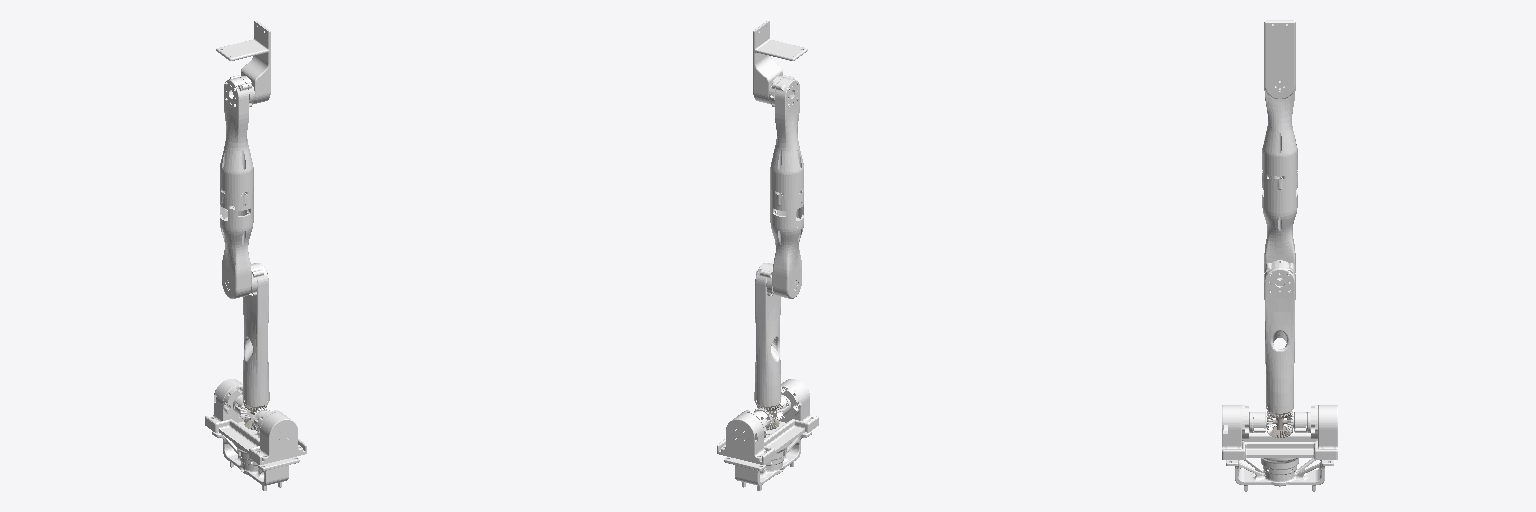
URDF robot description (bparm_5_1):
<?xml version="1.0" encoding="utf-8"?>
<!-- This URDF was automatically created by SolidWorks to URDF Exporter! Originally created by [author] ([email redacted]) 
     Commit Version: 1.6.0-4-g7f85cfe  Build Version: 1.6.7995.38578
     For more information, please see http://wiki.ros.org/sw_urdf_exporter -->
<robot
  name="bparm_5_1">
  <link
    name="base_link">
    <inertial>
      <origin
        xyz="0.000147714993380038 3.86437548627327E-11 0.0344335444558568"
        rpy="0 0 0" />
      <mass
        value="0.09275682784384" />
      <inertia
        ixx="0.000171517453339657"
        ixy="6.62437339287057E-10"
        ixz="1.19244230968858E-07"
        iyy="3.61830561224154E-05"
        iyz="1.12679947694376E-13"
        izz="0.000179050068336717" />
    </inertial>
    <visual>
      <origin
        xyz="0 0 0"
        rpy="0 0 0" />
      <geometry>
        <mesh
          filename="package://bparm_5_1_description/meshes/base_link.STL" />
      </geometry>
      <material
        name="">
        <color
          rgba="1 1 1 1" />
      </material>
    </visual>
    <collision>
      <origin
        xyz="0 0 0"
        rpy="0 0 0" />
      <geometry>
        <mesh
          filename="package://bparm_5_1_description/meshes/base_link.STL" />
      </geometry>
    </collision>
  </link>
  <link
    name="link1">
    <inertial>
      <origin
        xyz="-3.59678982431166E-09 0.0224429410549994 2.86723159617641E-05"
        rpy="0 0 0" />
      <mass
        value="0.242703771625424" />
      <inertia
        ixx="0.000119094117238749"
        ixy="1.44019979650354E-10"
        ixz="-2.20407452275585E-07"
        iyy="0.000279261953138059"
        iyz="-1.69484268016459E-07"
        izz="0.000242859744668342" />
    </inertial>
    <visual>
      <origin
        xyz="0 0 0"
        rpy="0 0 0" />
      <geometry>
        <mesh
          filename="package://bparm_5_1_description/meshes/link1.STL" />
      </geometry>
      <material
        name="">
        <color
          rgba="1 1 1 1" />
      </material>
    </visual>
    <collision>
      <origin
        xyz="0 0 0"
        rpy="0 0 0" />
      <geometry>
        <mesh
          filename="package://bparm_5_1_description/meshes/link1.STL" />
      </geometry>
    </collision>
  </link>
  <joint
    name="joint1"
    type="revolute">
    <origin
      xyz="0 0 0.0615"
      rpy="1.5708 0 1.5708" />
    <parent
      link="base_link" />
    <child
      link="link1" />
    <axis
      xyz="0 -1 0" />
    <limit
      lower="-2.3562"
      upper="2.3562"
      effort="1.0"
      velocity="1.0" />
  </joint>
  <link
    name="link2">
    <inertial>
      <origin
        xyz="-0.0068246 -7.6624E-10 3.2994E-08"
        rpy="0 0 0" />
      <mass
        value="0.014515" />
      <inertia
        ixx="1.872E-06"
        ixy="-4.0965E-14"
        ixz="-1.1811E-14"
        iyy="1.2911E-06"
        iyz="-3.4624E-13"
        izz="1.2324E-06" />
    </inertial>
    <visual>
      <origin
        xyz="0 0 0"
        rpy="0 0 0" />
      <geometry>
        <mesh
          filename="package://bparm_5_1_description/meshes/link2.STL" />
      </geometry>
      <material
        name="">
        <color
          rgba="0.77647 0.75686 0.73725 1" />
      </material>
    </visual>
    <collision>
      <origin
        xyz="0 0 0"
        rpy="0 0 0" />
      <geometry>
        <mesh
          filename="package://bparm_5_1_description/meshes/link2.STL" />
      </geometry>
    </collision>
  </link>
  <joint
    name="joint2"
    type="revolute">
    <origin
      xyz="0 0.04 0"
      rpy="-1.5708 0 -1.5708" />
    <parent
      link="link1" />
    <child
      link="link2" />
    <axis
      xyz="0 0 1" />
    <limit
      lower="-1.9"
      upper="1.9"
      effort="1.0"
      velocity="1.0" />
  </joint>
  <link
    name="link3">
    <inertial>
      <origin
        xyz="-2.1208E-05 0.10046 -0.00040832"
        rpy="0 0 0" />
      <mass
        value="0.19136" />
      <inertia
        ixx="0.00062075"
        ixy="4.7347E-07"
        ixz="2.3393E-08"
        iyy="3.894E-05"
        iyz="-1.6297E-06"
        izz="0.00063603" />
    </inertial>
    <visual>
      <origin
        xyz="0 0 0"
        rpy="0 0 0" />
      <geometry>
        <mesh
          filename="package://bparm_5_1_description/meshes/link3.STL" />
      </geometry>
      <material
        name="">
        <color
          rgba="1 1 1 1" />
      </material>
    </visual>
    <collision>
      <origin
        xyz="0 0 0"
        rpy="0 0 0" />
      <geometry>
        <mesh
          filename="package://bparm_5_1_description/meshes/link3.STL" />
      </geometry>
    </collision>
  </link>
  <joint
    name="joint3"
    type="revolute">
    <origin
      xyz="-0.02254 0 0"
      rpy="1.5708 -1.5708 0" />
    <parent
      link="link2" />
    <child
      link="link3" />
    <axis
      xyz="0 -1 0" />
    <limit
      lower="-2.3562"
      upper="2.3562"
      effort="1.0"
      velocity="1.0" />
  </joint>
  <link
    name="link4">
    <inertial>
      <origin
        xyz="5.41694852800034E-05 0.0711418303247444 -0.0139420842338543"
        rpy="0 0 0" />
      <mass
        value="0.165671647003906" />
      <inertia
        ixx="0.00016886824957459"
        ixy="-2.69468977938436E-08"
        ixz="4.05097399036029E-08"
        iyy="4.69717098154336E-05"
        iyz="-1.03327825778222E-06"
        izz="0.000175146941058619" />
    </inertial>
    <visual>
      <origin
        xyz="0 0 0"
        rpy="0 0 0" />
      <geometry>
        <mesh
          filename="package://bparm_5_1_description/meshes/link4.STL" />
      </geometry>
      <material
        name="">
        <color
          rgba="1 1 1 1" />
      </material>
    </visual>
    <collision>
      <origin
        xyz="0 0 0"
        rpy="0 0 0" />
      <geometry>
        <mesh
          filename="package://bparm_5_1_description/meshes/link4.STL" />
      </geometry>
    </collision>
  </link>
  <joint
    name="joint4"
    type="revolute">
    <origin
      xyz="0 0.2 -0.0190000000000045"
      rpy="0 0 0" />
    <parent
      link="link3" />
    <child
      link="link4" />
    <axis
      xyz="0 0 -1" />
    <limit
      lower="-2.3562"
      upper="2.3562"
      effort="1.0"
      velocity="1.0" />
  </joint>
  <link
    name="link5">
    <inertial>
      <origin
        xyz="6.80793620921882E-07 0.0404646030443322 0.000591187634898266"
        rpy="0 0 0" />
      <mass
        value="0.164695579944042" />
      <inertia
        ixx="0.000192367151187575"
        ixy="-2.69244029869932E-07"
        ixz="1.70687310964394E-08"
        iyy="4.09586796976325E-05"
        iyz="1.24434581079355E-06"
        izz="0.000199970106498001" />
    </inertial>
    <visual>
      <origin
        xyz="0 0 0"
        rpy="0 0 0" />
      <geometry>
        <mesh
          filename="package://bparm_5_1_description/meshes/link5.STL" />
      </geometry>
      <material
        name="">
        <color
          rgba="1 1 1 1" />
      </material>
    </visual>
    <collision>
      <origin
        xyz="0 0 0"
        rpy="0 0 0" />
      <geometry>
        <mesh
          filename="package://bparm_5_1_description/meshes/link5.STL" />
      </geometry>
    </collision>
  </link>
  <joint
    name="joint5"
    type="revolute">
    <origin
      xyz="0 0.188000000000001 -0.0139999999999979"
      rpy="0 0 0" />
    <parent
      link="link4" />
    <child
      link="link5" />
    <axis
      xyz="0 -1 0" />
    <limit
      lower="-2.3562"
      upper="2.3562"
      effort="1.0"
      velocity="1.0" />
  </joint>
  <link
    name="link6">
    <inertial>
      <origin
        xyz="0.0452630242190938 0.0209701312193503 0.000258511668080996"
        rpy="0 0 0" />
      <mass
        value="1.24192164964168" />
      <inertia
        ixx="0.000359417782615194"
        ixy="-3.42640022195274E-06"
        ixz="1.66181247115086E-06"
        iyy="0.000274833056142284"
        iyz="9.24894410806582E-08"
        izz="0.000246221837791233" />
    </inertial>
    <visual>
      <origin
        xyz="0 0 0"
        rpy="0 0 0" />
      <geometry>
        <mesh
          filename="package://bparm_5_1_description/meshes/link6.STL" />
      </geometry>
      <material
        name="">
        <color
          rgba="1 1 1 1" />
      </material>
    </visual>
    <collision>
      <origin
        xyz="0 0 0"
        rpy="0 0 0" />
      <geometry>
        <mesh
          filename="package://bparm_5_1_description/meshes/link6.STL" />
      </geometry>
    </collision>
  </link>
  <joint
    name="joint6"
    type="revolute">
    <origin
      xyz="0 0.122 0.0465"
      rpy="1.5708 0 1.5708" />
    <parent
      link="link5" />
    <child
      link="link6" />
    <axis
      xyz="0 -1 0" />
    <limit
      lower="-2.3562"
      upper="2.3562"
      effort="1.0"
      velocity="1.0" />
  </joint>
</robot>

--- What the picture shows (computed from the rendered views, not written in the file) ---
Views: 3 orthographic renders of the robot side by side, from view 1: azimuth 30°, elevation 25°; view 2: azimuth 150°, elevation 25°; view 3: azimuth 270°, elevation 25°.
Robot: bparm_5_1 — 7 links, 6 joints (6 revolute); root link base_link; default pose: all joints at 0.
Visible links, largest first — view 1: link1, link3, link5, link4, link6, base_link; view 2: link1, link3, link5, link4, link6, base_link; view 3: link1, link3, link4, link6, link5, base_link.
Link boxes in pixels (bbox=[...]): link1: bbox=[205, 379, 306, 464]; link3: bbox=[242, 262, 269, 406]; link5: bbox=[220, 75, 254, 192]; link4: bbox=[220, 187, 253, 298]; link6: bbox=[216, 21, 270, 104]; base_link: bbox=[212, 431, 299, 490]; link1: bbox=[717, 379, 818, 464]; link3: bbox=[754, 262, 781, 406]; link5: bbox=[769, 75, 803, 192]; link4: bbox=[770, 187, 803, 298]; link6: bbox=[753, 21, 807, 104]; base_link: bbox=[724, 431, 811, 490]; link1: bbox=[1222, 405, 1337, 459]; link3: bbox=[1264, 260, 1295, 413]; link4: bbox=[1262, 171, 1297, 278]; link6: bbox=[1264, 20, 1295, 98]; link5: bbox=[1262, 81, 1297, 176]; base_link: bbox=[1226, 458, 1333, 491].
Bounding box of the posed robot: 0.1 × 0.1647 × 0.734 m (x, y, z).
7 mesh visuals loaded from 7 distinct referenced files (7 binary STL).